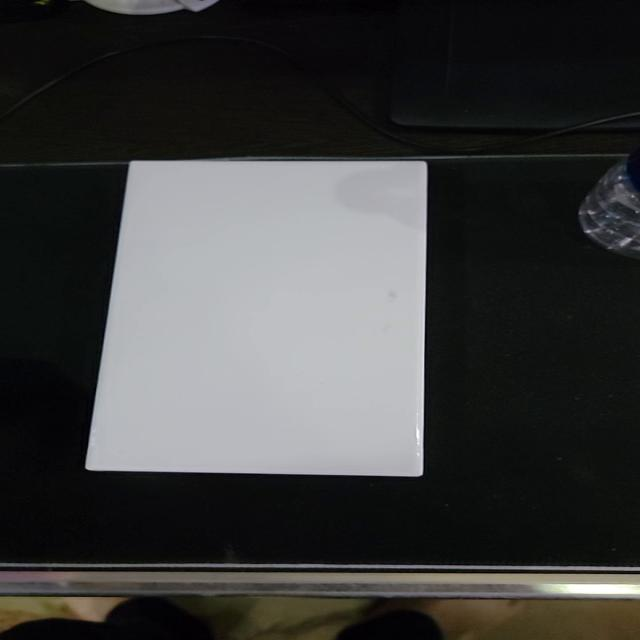Anorganik: (567, 145, 640, 263)
Organik: (80, 154, 437, 483)
